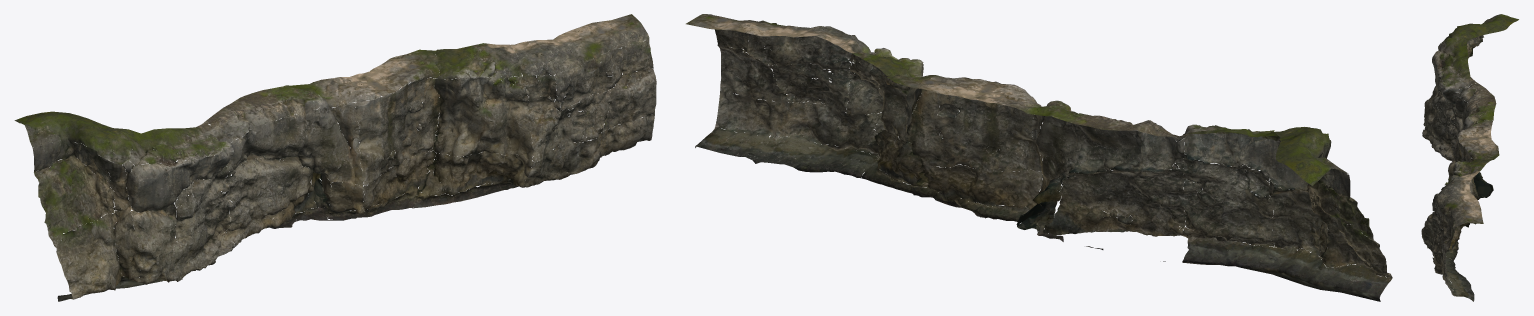
File: coastal_cliff_02.glb
3 renders of one model, left to right at view 1: azimuth 30°, elevation 25°; view 2: azimuth 150°, elevation 25°; view 3: azimuth 270°, elevation 25°, orthographic. The views are drawn at different scales.
Visible parts, largest first — view 1: coastal_cliff_02_LOD0; view 2: coastal_cliff_02_LOD0; view 3: coastal_cliff_02_LOD0.
Part boxes in pixels (left/top/right/bottom): coastal_cliff_02_LOD0: left=14, top=14, right=656, bottom=301; coastal_cliff_02_LOD0: left=686, top=14, right=1392, bottom=301; coastal_cliff_02_LOD0: left=1421, top=14, right=1518, bottom=301.
Bounding box in the file's own units: 40.96 × 10.07 × 8.64.
Materials: 1 (1 with a texture image).
